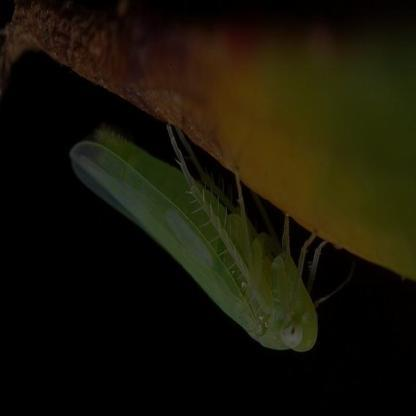green-leafhopper: (77, 90, 314, 352)
